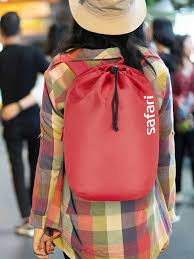backpack: (54, 47, 160, 202)
